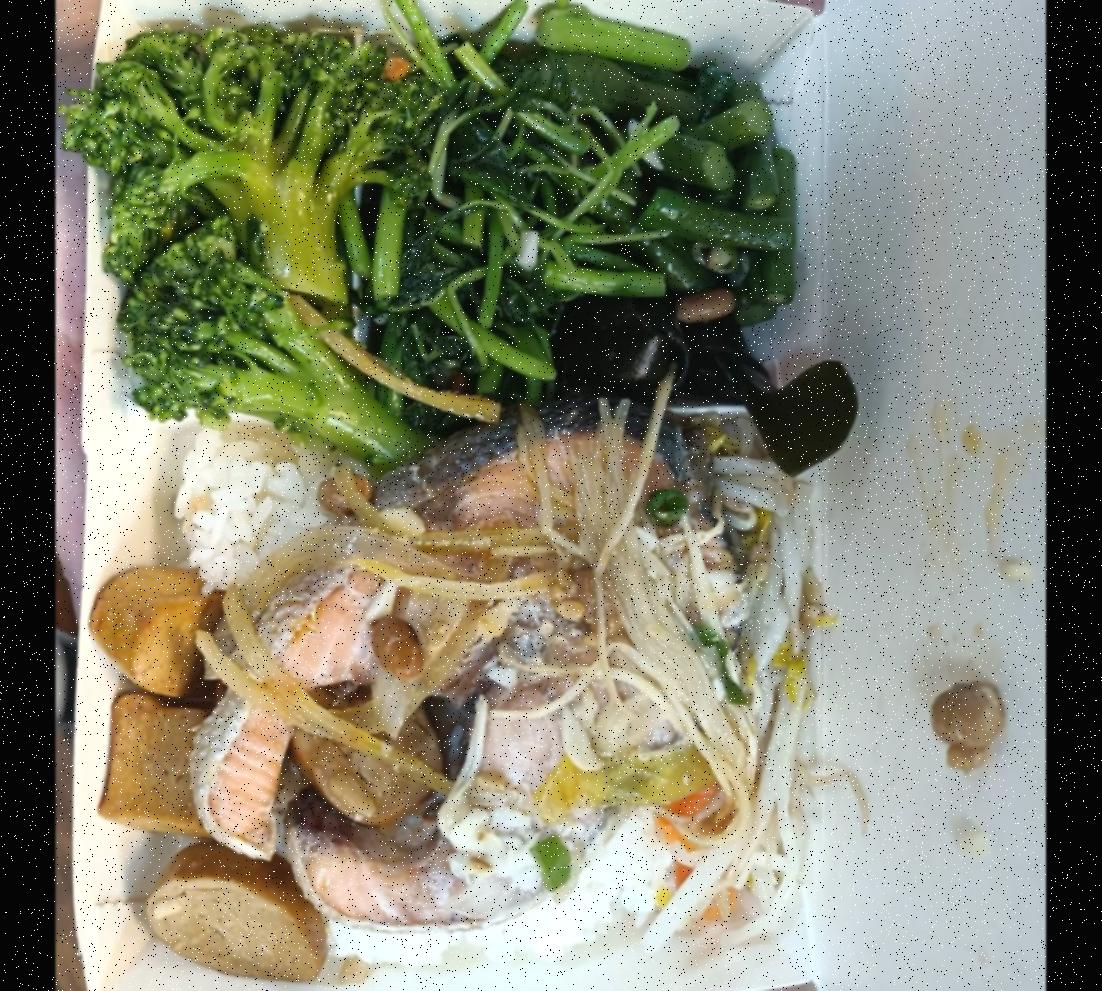box: (62, 0, 843, 991)
salmon: (228, 419, 731, 881)
side dish: (78, 11, 341, 425), (345, 46, 568, 393), (99, 528, 268, 974), (590, 38, 804, 316)
white rice: (182, 400, 748, 948)
